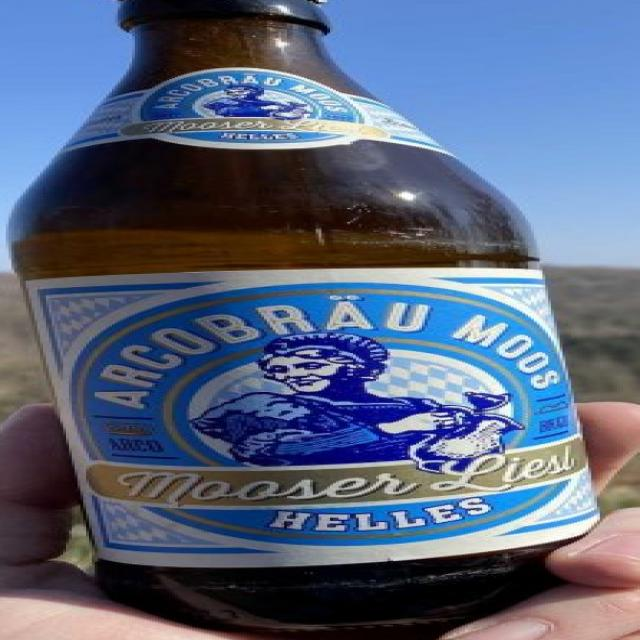Arcobrau Mooser Liesl: (3, 1, 640, 640)
